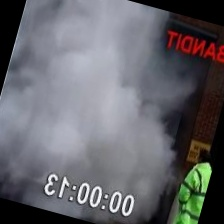smoke: (0, 0, 210, 224)
